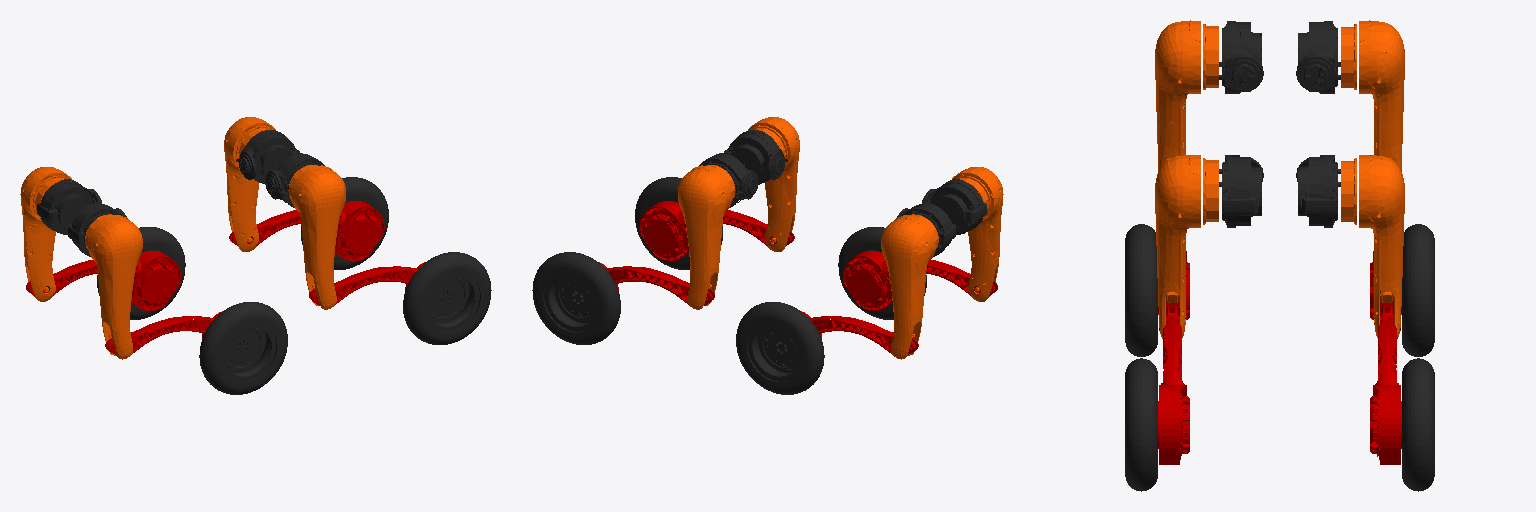
robot.urdf — magicdog:
<?xml version="1.0" ?>
<!-- =================================================================================== -->
<!-- |    This document was autogenerated by xacro from robot_wheel.xacro              | -->
<!-- |    EDITING THIS FILE BY HAND IS NOT RECOMMENDED                                 | -->
<!-- =================================================================================== -->
<robot name="magicdog">
  <material name="black">
    <color rgba="0.0 0.0 0.0 1.0"/>
  </material>
  <material name="blue">
    <color rgba="0.0 0.0 0.8 1.0"/>
  </material>
  <material name="green">
    <color rgba="0.0 0.8 0.0 1.0"/>
  </material>
  <material name="grey">
    <color rgba="0.2 0.2 0.2 1.0"/>
  </material>
  <material name="silver">
    <color rgba="0.9137254901960784 0.9137254901960784 0.8470588235294118 1.0"/>
  </material>
  <material name="orange">
    <color rgba="1.0 0.4235294117647059 0.0392156862745098 1.0"/>
  </material>
  <material name="brown">
    <color rgba="0.8705882352941177 0.8117647058823529 0.7647058823529411 1.0"/>
  </material>
  <material name="red">
    <color rgba="0.8 0.0 0.0 1.0"/>
  </material>
  <material name="white">
    <color rgba="1.0 1.0 1.0 1.0"/>
  </material>
  <link name="base">
    <visual>
      <origin rpy="0 0 0" xyz="0 0 0"/>
      <geometry>
        <mesh filename="../meshes/magicdog_base.stl" scale="1 1 1"/>
        <!-- <box size="0.327 0.194 0.114"/> -->
      </geometry>
      <material name="silver"/>
    </visual>
    <collision>
      <origin rpy="0 0 0" xyz="0 0 0"/>
      <geometry>
        <box size="0.327 0.194 0.114"/>
      </geometry>
    </collision>
    <inertial>
      <origin rpy="0 0 0" xyz="0.030789072 -0.0015929272 0.019370127"/>
      <mass value="8.6470505"/>
      <inertia ixx="0.047071341" ixy="-0.0013391533" ixz="-0.031639906" iyy="0.14560398" iyz="-0.00026207612" izz="0.14388143"/>
    </inertial>
  </link>

  <joint name="head_joint" type="fixed" dont_collapse="true">
    <origin rpy="0.0 0.349 0.0" xyz="0.21518 0.0 0.09654"/>
    <parent link="base"/>
    <child link="head"/>
  </joint>
  <link name="head">
    <inertial>
      <mass value="0.001"/>
      <origin rpy="0 0 0" xyz="0 0 0"/>
      <inertia ixx="0.000001" ixy="0" ixz="0" iyy="0.000001" iyz="0" izz="0.000001"/>
    </inertial>
    <collision>
      <origin rpy="0.0 0.0 0.0" xyz="0.03 0 0.052"/>
      <geometry>
        <box size="0.16 0.1 0.13"/>
      </geometry>
    </collision>
  </link>

  <joint name="FR_hip_joint" type="revolute">
    <origin rpy="0 0 0" xyz="0.220365 -0.04998785 0"/>
    <parent link="base"/>
    <child link="FR_hip"/>
    <axis xyz="1 0 0"/>
    <dynamics damping="0" friction="0"/>
    <limit effort="25" lower="-0.6457718232379019" upper="0.7853981633974483" velocity="22"/>
  </joint>
  <link name="FR_hip">
    <visual>
      <origin rpy="-1.5707963267948966 -1.5707963267948966 0 " xyz="0 0 0"/>
      <geometry>
        <mesh filename="../meshes/magicdog_abad.stl" scale="1 1 1"/>
      </geometry>
      <material name="grey"/>
    </visual>
    <collision>
      <origin rpy="1.5707963267948966 0 0" xyz="0 -0.075 0"/>
      <geometry>
        <cylinder length="0.07" radius="0.05"/>
      </geometry>
    </collision>
    <inertial>
      <origin rpy="0 0 0" xyz="-0.034672887 0.0039130227 0.0"/>
      <mass value="0.35996359"/>
      <inertia ixx="0.00010289238" ixy="-3.0677028e-05" ixz="0" iyy="0.00047667644" iyz="-0.0" izz="0.00046973335"/>
    </inertial>
  </link>
  <joint name="FR_thigh_joint" type="revolute">
    <origin rpy="0 0 0" xyz="0 -0.099 0"/>
    <parent link="FR_hip"/>
    <child link="FR_thigh"/>
    <axis xyz="0 1 0"/>
    <dynamics damping="0" friction="0"/>
    <limit effort="25" lower="-1.2653637076958888" upper="3.6215581978882336" velocity="22"/>
  </joint>
  <link name="FR_thigh">
    <visual>
      <origin rpy="3.141592653589793 -1.5707963267948966 0" xyz="0 0 0"/>
      <geometry>
        <mesh filename="../meshes/magicdog_hip_right.stl" scale="1 1 1"/>
      </geometry>
      <material name="orange"/>
    </visual>
    <collision>
      <origin rpy="0 1.5707963267948966 0" xyz="-0.018 0 -0.11000000000000001"/>
      <geometry>
        <box size="0.1 0.03 0.04"/>
      </geometry>
    </collision>
    <inertial>
      <origin rpy="0 0 0" xyz="-0.0033473586 0.031436598 -0.032009477"/>
      <mass value="1.5725954"/>
      <inertia ixx="0.0089600443" ixy="-0.00020991626" ixz="-0.00051137678" iyy="0.0078167414" iyz="-0.0017655451" izz="0.0028432732"/>
    </inertial>
  </link>
  <joint name="FR_calf_joint" type="revolute">
    <origin rpy="0 0 0" xyz="0 0 -0.2"/>
    <parent link="FR_thigh"/>
    <child link="FR_calf"/>
    <axis xyz="0 1 0"/>
    <dynamics damping="0" friction="0"/>
    <limit effort="37.5" lower="-2.3668409986295105" upper="-0.39461894387591795" velocity="15"/>
  </joint>
  <link name="FR_calf">
    <visual>
      <origin rpy="0 0 0" xyz="0 0 0"/>
      <geometry>
        <mesh filename="../meshes/magicdog_right_knee_wheel.STL" scale="1 1 1"/>
      </geometry>
      <material name="red"/>
    </visual>
    <collision>
      <origin rpy="0 1.5707963267948966 0" xyz="0 0 -0.14625"/>
      <!-- <origin rpy="0 0 0" xyz="0 0 0"/> -->
      <geometry>
        <box size="0.28885 0.025 0.025"/>
        <!-- <box size="0.28885 0.016 0.016"/> -->
        <!-- <mesh filename="../meshes/magicdog_right_knee_wheel.STL" scale="1 1 1"/> -->
      </geometry>
    </collision>
    <inertial>
      <origin rpy="0 0 0" xyz="0.005260 -0.006732 -0.202313"/>
      <mass value="1.018534"/>
      <inertia ixx="0.006748" ixy="-0.000037" ixz="-0.000341" iyy="0.007322" iyz="-0.000283" izz="0.000811"/>
    </inertial>
  </link>
  <joint name="FR_wheel_joint" type="continuous">
    <origin rpy="0 0 0" xyz="0 0 -0.24351"/>
    <parent link="FR_calf"/>
    <child link="FR_wheel"/>
    <axis xyz="0 1 0"/>
    <dynamics damping="0" friction="0"/>
    <limit effort="15" velocity="35"/>
  </joint>
  <link name="FR_wheel">
    <visual>
      <origin rpy="0 0 0" xyz="0 0 0"/>
      <geometry>
        <mesh filename="../meshes/magicdog_right_wheel.STL" scale="1 1 1"/>
      </geometry>
      <material name="grey"/>
    </visual>
    <collision>
      <origin rpy="1.5707963267948966 0 0" xyz="0 -0.045 0"/>
      <geometry>
        <cylinder length="0.030" radius="0.090"/>
      </geometry>
    </collision>
    <inertial>
      <origin rpy="0 0 0" xyz="0 -0.037340 0"/>
      <mass value="0.510931"/>
      <inertia ixx="0.000707" ixy="0" ixz="0" iyy="0.001321" iyz="0" izz="0.000707"/>
    </inertial>
  </link>
  <joint name="FL_hip_joint" type="revolute">
    <origin rpy="0 0 0" xyz="0.220365 0.04998785 0"/>
    <parent link="base"/>
    <child link="FL_hip"/>
    <axis xyz="1 0 0"/>
    <dynamics damping="0" friction="0"/>
    <limit effort="25" lower="-0.7853981633974483" upper="0.6457718232379019" velocity="22"/>
  </joint>
  <link name="FL_hip">
    <visual>
      <origin rpy="1.5707963267948966 1.5707963267948966 0" xyz="0 0 0"/>
      <geometry>
        <mesh filename="../meshes/magicdog_abad.stl" scale="1 1 1"/>
      </geometry>
      <material name="grey"/>
    </visual>
    <collision>
      <origin rpy="1.5707963267948966 0 0" xyz="0 0.075 0"/>
      <geometry>
        <cylinder length="0.07" radius="0.05"/>
      </geometry>
    </collision>
    <inertial>
      <origin rpy="0 0 0" xyz="-0.034672887 -0.0039130227 0.0"/>
      <mass value="0.35996359"/>
      <inertia ixx="0.00010289238" ixy="3.0677028e-05" ixz="0" iyy="0.00047667644" iyz="0.0" izz="0.00046973335"/>
    </inertial>
  </link>
  <joint name="FL_thigh_joint" type="revolute">
    <origin rpy="0 0 0" xyz="0 0.099 0"/>
    <parent link="FL_hip"/>
    <child link="FL_thigh"/>
    <axis xyz="0 1 0"/>
    <dynamics damping="0" friction="0"/>
    <limit effort="25" lower="-1.2653637076958888" upper="3.6215581978882336" velocity="22"/>
  </joint>
  <link name="FL_thigh">
    <visual>
      <origin rpy="3.141592653589793 -1.5707963267948966 0" xyz="0 0 0"/>
      <geometry>
        <mesh filename="../meshes/magicdog_hip.stl" scale="1 1 1"/>
      </geometry>
      <material name="orange"/>
    </visual>
    <collision>
      <origin rpy="0 1.5707963267948966 0" xyz="-0.018 0 -0.11000000000000001"/>
      <geometry>
        <box size="0.1 0.03 0.04"/>
      </geometry>
    </collision>
    <inertial>
      <origin rpy="0 0 0" xyz="-0.0033473586 -0.031436598 -0.032009477"/>
      <mass value="1.5725954"/>
      <inertia ixx="0.0089600443" ixy="0.00020991626" ixz="-0.00051137678" iyy="0.0078167414" iyz="0.0017655451" izz="0.0028432732"/>
    </inertial>
  </link>
  <joint name="FL_calf_joint" type="revolute">
    <origin rpy="0 0 0" xyz="0 0 -0.2"/>
    <parent link="FL_thigh"/>
    <child link="FL_calf"/>
    <axis xyz="0 1 0"/>
    <dynamics damping="0" friction="0"/>
    <limit effort="37.5" lower="-2.3668409986295105" upper="-0.39461894387591795" velocity="15"/>
  </joint>
  <link name="FL_calf">
    <visual>
      <origin rpy="0 0 0" xyz="0 0 0"/>
      <geometry>
        <mesh filename="../meshes/magicdog_left_knee_wheel_.STL" scale="1 1 1"/>
      </geometry>
      <material name="red"/>
    </visual>
    <collision>
      <origin rpy="0 1.5707963267948966 0" xyz="0 0 -0.14625"/>
      <!-- <origin rpy="0 0 0" xyz="0 0 0"/> -->
      <geometry>
        <box size="0.28885 0.025 0.025"/>
        <!-- <mesh filename="../meshes/magicdog_left_knee_wheel_.STL" scale="1 1 1"/> -->
      </geometry>
    </collision>
    <inertial>
      <origin rpy="0 0 0" xyz="0.005351 0.003694 -0.202438"/>
      <mass value="1.018534"/>
      <inertia ixx="0.006799" ixy="0.000019" ixz="-0.000335" iyy="0.007357" iyz="0.000154" izz="0.000844"/>
    </inertial>
  </link>
  <joint name="FL_wheel_joint" type="continuous">
    <origin rpy="0 0 0" xyz="0 0 -0.24351"/>
    <parent link="FL_calf"/>
    <child link="FL_wheel"/>
    <axis xyz="0 1 0"/>
    <dynamics damping="0" friction="0"/>
    <limit effort="15" velocity="35"/>
  </joint>
  <link name="FL_wheel">
    <visual>
      <origin rpy="0 0 0" xyz="0 0 0"/>
      <geometry>
        <mesh filename="../meshes/magicdog_left_wheel.STL" scale="1 1 1"/>
      </geometry>
      <material name="grey"/>
    </visual>
    <collision>
      <origin rpy="1.5707963267948966 0 0" xyz="0 0.045 0"/>
      <geometry>
        <cylinder length="0.030" radius="0.090"/>
      </geometry>
    </collision>
    <inertial>
      <origin rpy="0 0 0" xyz="0 0.037340 0"/>
      <mass value="0.510931"/>
      <inertia ixx="0.000707" ixy="0" ixz="0" iyy="0.001321" iyz="0" izz="0.000707"/>
    </inertial>
  </link>
  <joint name="RR_hip_joint" type="revolute">
    <origin rpy="0 0 0" xyz="-0.220365 -0.04998785 0"/>
    <parent link="base"/>
    <child link="RR_hip"/>
    <axis xyz="1 0 0"/>
    <dynamics damping="0" friction="0"/>
    <limit effort="25" lower="-0.6457718232379019" upper="0.7853981633974483" velocity="22"/>
  </joint>
  <link name="RR_hip">
    <visual>
      <origin rpy="-1.5707963267948966 1.5707963267948966 0" xyz="0 0 0"/>
      <geometry>
        <mesh filename="../meshes/magicdog_abad.stl" scale="1 1 1"/>
      </geometry>
      <material name="grey"/>
    </visual>
    <collision>
      <origin rpy="1.5707963267948966 0 0" xyz="0 -0.075 0"/>
      <geometry>
        <cylinder length="0.07" radius="0.05"/>
      </geometry>
    </collision>
    <inertial>
      <origin rpy="0 0 0" xyz="0.034672887 0.0039130227 0.0"/>
      <mass value="0.35996359"/>
      <inertia ixx="0.00010289238" ixy="3.0677028e-05" ixz="0" iyy="0.00047667644" iyz="-0.0" izz="0.00046973335"/>
    </inertial>
  </link>
  <joint name="RR_thigh_joint" type="revolute">
    <origin rpy="0 0 0" xyz="0 -0.099 0"/>
    <parent link="RR_hip"/>
    <child link="RR_thigh"/>
    <axis xyz="0 1 0"/>
    <dynamics damping="0" friction="0"/>
    <limit effort="25" lower="-1.2653637076958888" upper="3.6215581978882336" velocity="22"/>
  </joint>
  <link name="RR_thigh">
    <visual>
      <origin rpy="3.141592653589793 -1.5707963267948966 0" xyz="0 0 0"/>
      <geometry>
        <mesh filename="../meshes/magicdog_hip_right.stl" scale="1 1 1"/>
      </geometry>
      <material name="orange"/>
    </visual>
    <collision>
      <origin rpy="0 1.5707963267948966 0" xyz="-0.018 0 -0.11000000000000001"/>
      <geometry>
        <box size="0.1 0.03 0.04"/>
      </geometry>
    </collision>
    <inertial>
      <origin rpy="0 0 0" xyz="-0.0033473586 0.031436598 -0.032009477"/>
      <mass value="1.5725954"/>
      <inertia ixx="0.0089600443" ixy="-0.00020991626" ixz="-0.00051137678" iyy="0.0078167414" iyz="-0.0017655451" izz="0.0028432732"/>
    </inertial>
  </link>
  <joint name="RR_calf_joint" type="revolute">
    <origin rpy="0 0 0" xyz="0 0 -0.2"/>
    <parent link="RR_thigh"/>
    <child link="RR_calf"/>
    <axis xyz="0 1 0"/>
    <dynamics damping="0" friction="0"/>
    <limit effort="37.5" lower="-2.3668409986295105" upper="-0.39461894387591795" velocity="15"/>
  </joint>
  <link name="RR_calf">
    <visual>
      <origin rpy="0 0 0" xyz="0 0 0"/>
      <geometry>
        <mesh filename="../meshes/magicdog_right_knee_wheel.STL" scale="1 1 1"/>
      </geometry>
      <material name="red"/>
    </visual>
    <collision>
      <origin rpy="0 1.5707963267948966 0" xyz="0 0 -0.14625"/>
      <!-- <origin rpy="0 0 0" xyz="0 0 0"/> -->
      <geometry>
        <box size="0.28885 0.025 0.025"/>
        <!-- <mesh filename="../meshes/magicdog_right_knee_wheel.STL" scale="1 1 1"/> -->
      </geometry>
    </collision>
    <inertial>
      <origin rpy="0 0 0" xyz="0.005260 -0.006732 -0.202313"/>
      <mass value="1.018534"/>
      <inertia ixx="0.006748" ixy="-0.000037" ixz="-0.000341" iyy="0.007322" iyz="-0.000283" izz="0.000811"/>
    </inertial>
  </link>
  <joint name="RR_wheel_joint" type="continuous">
    <origin rpy="0 0 0" xyz="0 0 -0.24351"/>
    <parent link="RR_calf"/>
    <child link="RR_wheel"/>
    <axis xyz="0 1 0"/>
    <dynamics damping="0" friction="0"/>
    <limit effort="15" velocity="35"/>
  </joint>
  <link name="RR_wheel">
    <visual>
      <origin rpy="0 0 0" xyz="0 0 0"/>
      <geometry>
        <mesh filename="../meshes/magicdog_right_wheel.STL" scale="1 1 1"/>
      </geometry>
      <material name="grey"/>
    </visual>
    <collision>
      <origin rpy="1.5707963267948966 0 0" xyz="0 -0.045 0"/>
      <geometry>
        <cylinder length="0.030" radius="0.090"/>
      </geometry>
    </collision>
    <inertial>
      <origin rpy="0 0 0" xyz="0 -0.037340 0"/>
      <mass value="0.510931"/>
      <inertia ixx="0.000707" ixy="0" ixz="0" iyy="0.001321" iyz="0" izz="0.000707"/>
    </inertial>
  </link>
  <joint name="RL_hip_joint" type="revolute">
    <origin rpy="0 0 0" xyz="-0.220365 0.04998785 0"/>
    <parent link="base"/>
    <child link="RL_hip"/>
    <axis xyz="1 0 0"/>
    <dynamics damping="0" friction="0"/>
    <limit effort="25" lower="-0.7853981633974483" upper="0.6457718232379019" velocity="22"/>
  </joint>
  <link name="RL_hip">
    <visual>
      <origin rpy="1.5707963267948966 -1.5707963267948966 0" xyz="0 0 0"/>
      <geometry>
        <mesh filename="../meshes/magicdog_abad.stl" scale="1 1 1"/>
      </geometry>
      <material name="grey"/>
    </visual>
    <collision>
      <origin rpy="1.5707963267948966 0 0" xyz="0 0.075 0"/>
      <geometry>
        <cylinder length="0.07" radius="0.05"/>
      </geometry>
    </collision>
    <inertial>
      <origin rpy="0 0 0" xyz="0.034672887 -0.0039130227 0.0"/>
      <mass value="0.35996359"/>
      <inertia ixx="0.00010289238" ixy="-3.0677028e-05" ixz="0" iyy="0.00047667644" iyz="0.0" izz="0.00046973335"/>
    </inertial>
  </link>
  <joint name="RL_thigh_joint" type="revolute">
    <origin rpy="0 0 0" xyz="0 0.099 0"/>
    <parent link="RL_hip"/>
    <child link="RL_thigh"/>
    <axis xyz="0 1 0"/>
    <dynamics damping="0" friction="0"/>
    <limit effort="25" lower="-1.2653637076958888" upper="3.6215581978882336" velocity="22"/>
  </joint>
  <link name="RL_thigh">
    <visual>
      <origin rpy="3.141592653589793 -1.5707963267948966 0" xyz="0 0 0"/>
      <geometry>
        <mesh filename="../meshes/magicdog_hip.stl" scale="1 1 1"/>
      </geometry>
      <material name="orange"/>
    </visual>
    <collision>
      <origin rpy="0 1.5707963267948966 0" xyz="-0.018 0 -0.11000000000000001"/>
      <geometry>
        <box size="0.1 0.03 0.04"/>
      </geometry>
    </collision>
    <inertial>
      <origin rpy="0 0 0" xyz="-0.0033473586 -0.031436598 -0.032009477"/>
      <mass value="1.5725954"/>
      <inertia ixx="0.0089600443" ixy="0.00020991626" ixz="-0.00051137678" iyy="0.0078167414" iyz="0.0017655451" izz="0.0028432732"/>
    </inertial>
  </link>
  <joint name="RL_calf_joint" type="revolute">
    <origin rpy="0 0 0" xyz="0 0 -0.2"/>
    <parent link="RL_thigh"/>
    <child link="RL_calf"/>
    <axis xyz="0 1 0"/>
    <dynamics damping="0" friction="0"/>
    <limit effort="37.5" lower="-2.3668409986295105" upper="-0.39461894387591795" velocity="15"/>
  </joint>
  <link name="RL_calf">
    <visual>
      <origin rpy="0 0 0" xyz="0 0 0"/>
      <geometry>
        <mesh filename="../meshes/magicdog_left_knee_wheel_.STL" scale="1 1 1"/>
      </geometry>
      <material name="red"/>
    </visual>
    <collision>
      <origin rpy="0 1.5707963267948966 0" xyz="0 0 -0.14625"/>
      <!-- <origin rpy="0 0 0" xyz="0 0 0"/> -->
      <geometry>
        <box size="0.28885 0.025 0.025"/>
        <!-- <mesh filename="../meshes/magicdog_left_knee_wheel_.STL" scale="1 1 1"/> -->
      </geometry>
    </collision>
    <inertial>
      <origin rpy="0 0 0" xyz="0.005351 0.003694 -0.202438"/>
      <mass value="1.018534"/>
      <inertia ixx="0.006799" ixy="0.000019" ixz="-0.000335" iyy="0.007357" iyz="0.000154" izz="0.000844"/>
    </inertial>
  </link>
  <joint name="RL_wheel_joint" type="continuous">
    <origin rpy="0 0 0" xyz="0 0 -0.24351"/>
    <parent link="RL_calf"/>
    <child link="RL_wheel"/>
    <axis xyz="0 1 0"/>
    <dynamics damping="0" friction="0"/>
    <limit effort="15" velocity="35"/>
  </joint>
  <link name="RL_wheel">
    <visual>
      <origin rpy="0 0 0" xyz="0 0 0"/>
      <geometry>
        <mesh filename="../meshes/magicdog_left_wheel.STL" scale="1 1 1"/>
      </geometry>
      <material name="grey"/>
    </visual>
    <collision>
      <origin rpy="1.5707963267948966 0 0" xyz="0 0.045 0"/>
      <geometry>
        <cylinder length="0.030" radius="0.090"/>
      </geometry>
    </collision>
    <inertial>
      <origin rpy="0 0 0" xyz="0 0.037340 0"/>
      <mass value="0.510931"/>
      <inertia ixx="0.000707" ixy="0" ixz="0" iyy="0.001321" iyz="0" izz="0.000707"/>
    </inertial>
  </link>
</robot>

--- What the picture shows (computed from the rendered views, not written in the file) ---
3 views of the same robot in one strip: view 1: azimuth 30°, elevation 25°; view 2: azimuth 150°, elevation 25°; view 3: azimuth 270°, elevation 25° (orthographic).
Model magicdog with 18 links and 17 joints (12 revolute, 4 continuous, 1 fixed), rooted at base, posed all joints at 0 but 4 set to mid-range because 0 is outside their limits (FR_calf_joint = -1.38, FL_calf_joint = -1.38, RR_calf_joint = -1.38, RL_calf_joint = -1.38).
Visible links, largest first — view 1: RR_wheel, FR_wheel, FR_thigh, RR_thigh, RL_thigh, FL_thigh, FL_calf, RL_calf, RL_hip, FL_hip, RL_wheel, FL_wheel (+4 smaller); view 2: RL_wheel, FL_wheel, FL_thigh, RL_thigh, RR_thigh, FR_thigh, FR_calf, RR_calf, RR_hip, FR_hip, RR_wheel, FR_wheel (+4 smaller); view 3: FR_thigh, FL_thigh, RR_thigh, RL_thigh, FR_wheel, FL_wheel, RR_wheel, RL_wheel, FL_calf, FR_calf, RR_hip, RL_hip (+2 smaller).
Link boxes in pixels (<box>): RR_wheel: <box>199,302,287,394</box>; FR_wheel: <box>403,252,491,344</box>; FR_thigh: <box>288,165,345,309</box>; RR_thigh: <box>85,214,142,359</box>; RL_thigh: <box>20,167,71,301</box>; FL_thigh: <box>224,117,275,251</box>; FL_calf: <box>229,201,384,261</box>; RL_calf: <box>26,251,180,310</box>; RL_hip: <box>37,179,101,234</box>; FL_hip: <box>236,130,299,184</box>; RL_wheel: <box>97,227,185,319</box>; FL_wheel: <box>301,177,388,269</box>; RL_wheel: <box>736,302,824,394</box>; FL_wheel: <box>532,252,620,344</box>; FL_thigh: <box>678,165,735,309</box>; RL_thigh: <box>881,214,938,359</box>; RR_thigh: <box>952,167,1003,301</box>; FR_thigh: <box>748,117,799,251</box>; FR_calf: <box>639,201,794,261</box>; RR_calf: <box>843,251,997,310</box>; RR_hip: <box>922,179,986,234</box>; FR_hip: <box>724,130,787,184</box>; RR_wheel: <box>838,227,926,319</box>; FR_wheel: <box>635,177,722,269</box>; FR_thigh: <box>1155,155,1218,338</box>; FL_thigh: <box>1341,155,1404,338</box>; RR_thigh: <box>1155,20,1218,171</box>; RL_thigh: <box>1341,20,1404,171</box>; FR_wheel: <box>1125,358,1157,491</box>; FL_wheel: <box>1402,358,1434,491</box>; RR_wheel: <box>1125,224,1157,356</box>; RL_wheel: <box>1402,224,1434,356</box>; FL_calf: <box>1370,306,1401,464</box>; FR_calf: <box>1158,306,1189,464</box>; RR_hip: <box>1219,21,1263,93</box>; RL_hip: <box>1296,21,1340,93</box>.
Size in the robot's own frame: 0.8249 by 0.4296 by 0.3894 metres.
16 mesh visuals loaded from 8 distinct referenced files (7 binary STL); not drawn: 1 (reference not matched to a file when rendering).
